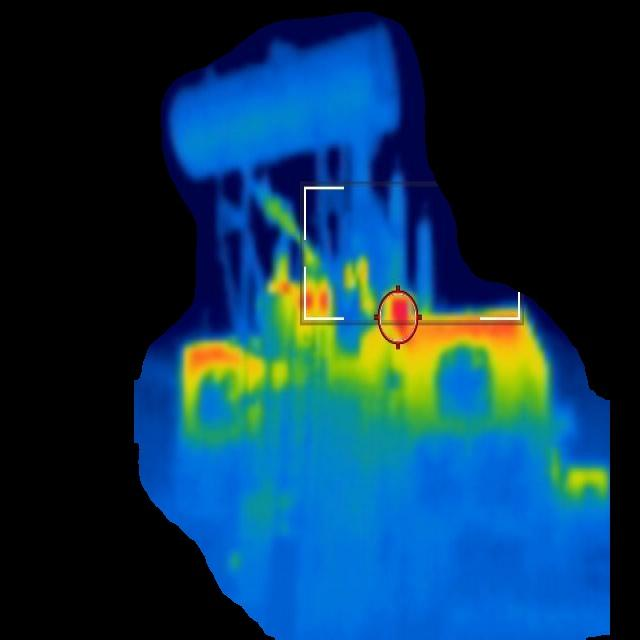Loose Joint F: (267, 275, 335, 328), (381, 284, 424, 333)
Point Overload PF: (250, 178, 328, 276)
Transformer Overload: (181, 303, 551, 440)
